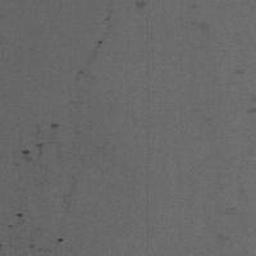Inclusion: (136, 0, 146, 8), (248, 107, 256, 113), (51, 123, 59, 128)
